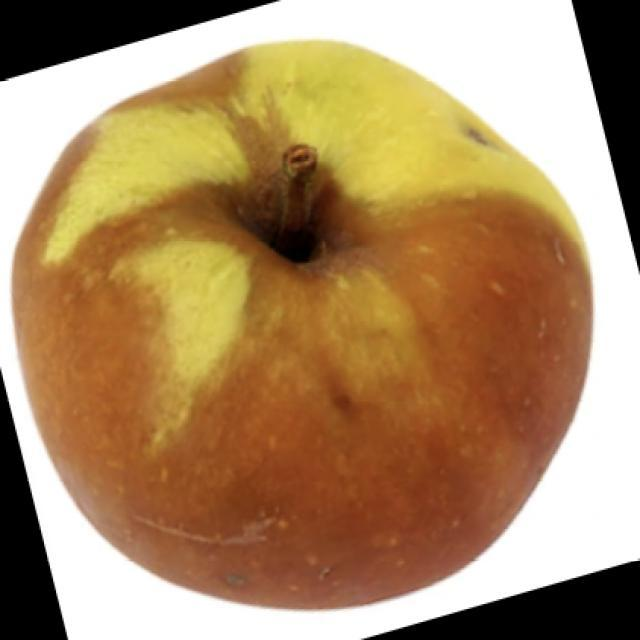Rotten: (10, 38, 597, 612)
